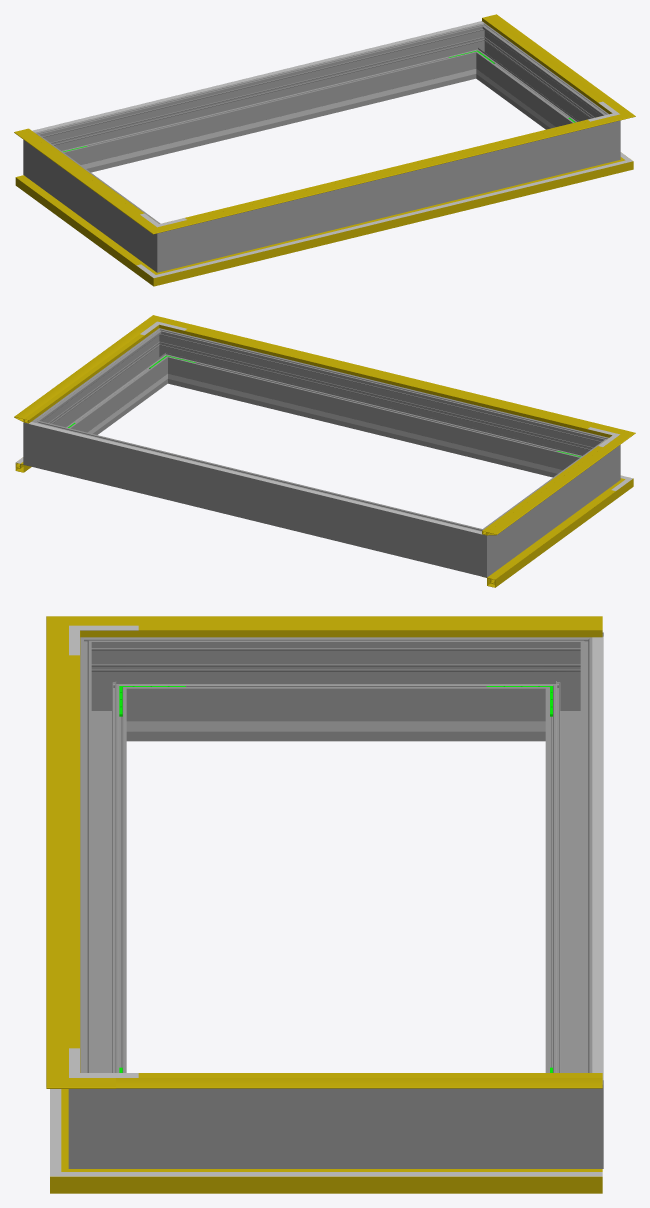
The picture shows the model from 3 angles, top to bottom: view 1: azimuth 30°, elevation 25°; view 2: azimuth 150°, elevation 25°; view 3: azimuth 270°, elevation 25°; orthographic projection. The views are drawn at different scales.
Parts seen in each view (by area): view 1: 3DGeom-276, 3DGeom-298, 3DGeom-297, 3DGeom-11, 3DGeom-268, 3DGeom-141, 3DGeom-244, 3DGeom-270, 3DGeom-145, 3DGeom-6, 3DGeom-220, 3DGeom-20 (+9 smaller); view 2: 3DGeom-298, 3DGeom-276, 3DGeom-297, 3DGeom-141, 3DGeom-268, 3DGeom-278, 3DGeom-239, 3DGeom-145, 3DGeom-6, 3DGeom-220, 3DGeom-284, 3DGeom-147 (+7 smaller); view 3: 3DGeom-268, 3DGeom-297, 3DGeom-276, 3DGeom-298, 3DGeom-16, 3DGeom-141, 3DGeom-147, 3DGeom-284, 3DGeom-290, 3DGeom-145, 3DGeom-220, 3DGeom-270 (+9 smaller).
Part boxes in pixels (bbox=[...]): 3DGeom-276: bbox=[56, 29, 471, 172]; 3DGeom-298: bbox=[187, 128, 590, 265]; 3DGeom-297: bbox=[479, 34, 597, 129]; 3DGeom-11: bbox=[179, 165, 603, 278]; 3DGeom-268: bbox=[41, 143, 149, 259]; 3DGeom-141: bbox=[178, 119, 605, 226]; 3DGeom-244: bbox=[92, 76, 446, 167]; 3DGeom-270: bbox=[139, 215, 187, 272]; 3DGeom-145: bbox=[482, 14, 617, 109]; 3DGeom-6: bbox=[15, 175, 143, 273]; 3DGeom-220: bbox=[32, 21, 483, 132]; 3DGeom-20: bbox=[181, 166, 602, 270]; 3DGeom-298: bbox=[173, 334, 587, 477]; 3DGeom-276: bbox=[53, 426, 461, 570]; 3DGeom-297: bbox=[46, 339, 164, 434]; 3DGeom-141: bbox=[174, 322, 605, 434]; 3DGeom-268: bbox=[494, 448, 603, 564]; 3DGeom-278: bbox=[456, 520, 504, 577]; 3DGeom-239: bbox=[197, 381, 551, 472]; 3DGeom-145: bbox=[14, 327, 150, 423]; 3DGeom-6: bbox=[482, 489, 615, 587]; 3DGeom-220: bbox=[28, 422, 482, 534]; 3DGeom-284: bbox=[23, 411, 58, 471]; 3DGeom-147: bbox=[482, 443, 618, 535]; 3DGeom-268: bbox=[138, 637, 533, 741]; 3DGeom-297: bbox=[138, 1088, 533, 1168]; 3DGeom-276: bbox=[545, 662, 592, 1072]; 3DGeom-298: bbox=[80, 662, 126, 1072]; 3DGeom-16: bbox=[119, 1169, 602, 1193]; 3DGeom-141: bbox=[46, 645, 80, 1057]; 3DGeom-147: bbox=[116, 616, 602, 637]; 3DGeom-284: bbox=[534, 1055, 603, 1168]; 3DGeom-290: bbox=[68, 1055, 138, 1168]; 3DGeom-145: bbox=[116, 1078, 602, 1088]; 3DGeom-220: bbox=[592, 636, 603, 1080]; 3DGeom-270: bbox=[80, 637, 138, 741].
Size of the model in its own units: 2.44 by 0.2596 by 1.22.
